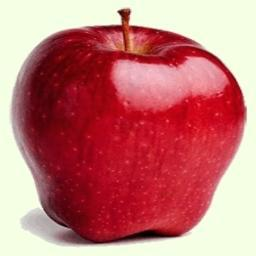apple: (11, 19, 247, 242)
